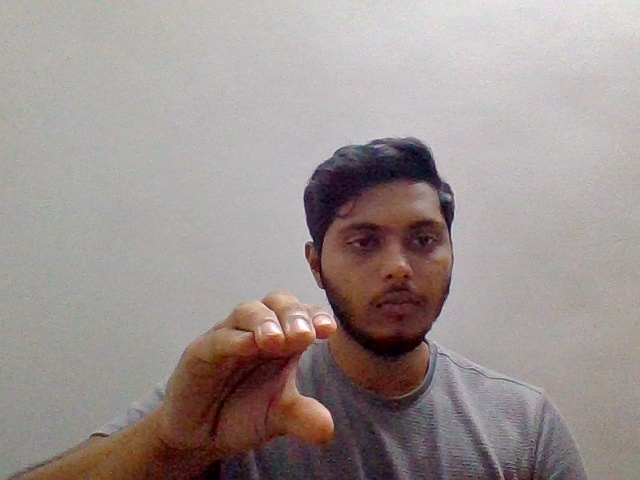No: (152, 284, 349, 470)
